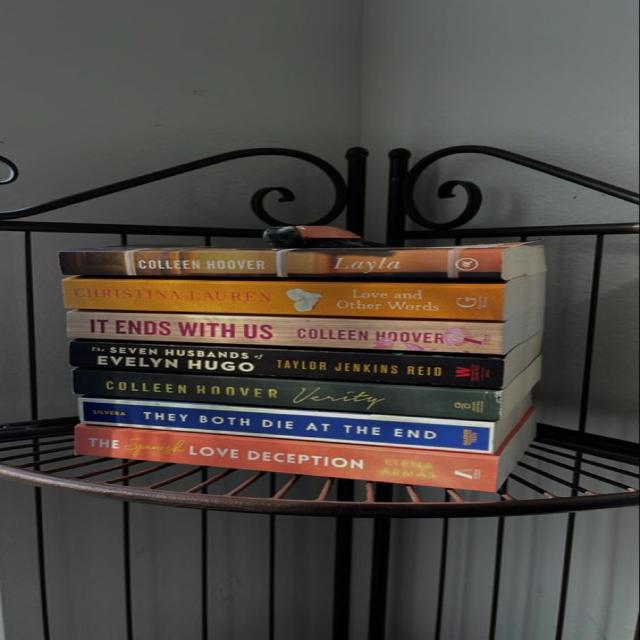book: (76, 408, 533, 492), (74, 359, 538, 421), (66, 297, 542, 354), (79, 397, 516, 454), (70, 340, 522, 390), (64, 279, 538, 322), (61, 244, 542, 280)
